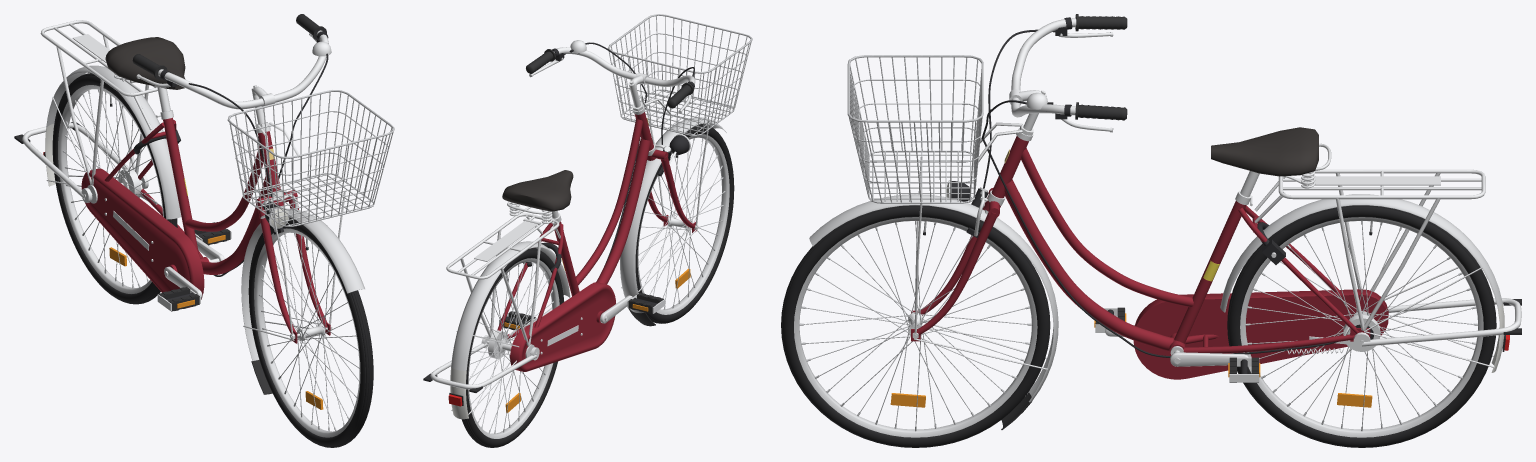
The model's file is mamachari.glb.
The picture shows the model from 3 angles, left to right: view 1: azimuth 30°, elevation 25°; view 2: azimuth 150°, elevation 25°; view 3: azimuth 270°, elevation 25°; orthographic projection. The views are drawn at different scales.
Visible parts, largest first — view 1: FrontWheel, Frame, Basket, RearWheel, ChainCase, Steer, FenderRear, FenderFront, Saddle, Stand, PedalR, Crank (+1 smaller); view 2: Frame, FrontWheel, Basket, RearWheel, ChainCase, Steer, FenderRear, FenderFront, Saddle, Stand, PedalR, PedalL (+1 smaller); view 3: Frame, FrontWheel, RearWheel, ChainCase, Basket, Steer, FenderRear, FenderFront, Saddle, Stand, Crank, PedalL.
Part boxes in pixels (x1,y1,x2,y2): FrontWheel: (248,217,373,447); Frame: (40,20,291,276); Basket: (227,90,394,226); RearWheel: (52,73,177,304); ChainCase: (81,168,204,307); Steer: (132,14,345,343); FenderRear: (43,65,181,219); FenderFront: (241,209,364,394); Saddle: (105,37,185,89); Stand: (14,122,148,202); PedalR: (157,287,200,311); Crank: (164,237,224,298); Frame: (446,94,655,358); FrontWheel: (635,124,734,323); Basket: (607,14,752,136); RearWheel: (461,248,564,447); ChainCase: (510,282,615,371); Steer: (526,40,709,232); FenderRear: (448,241,570,419); FenderFront: (619,117,726,326); Saddle: (502,170,573,223); Stand: (423,335,539,392); PedalR: (627,293,664,313); PedalL: (499,311,536,330); Frame: (982,128,1485,357); FrontWheel: (781,205,1050,447); RearWheel: (1227,205,1496,447); ChainCase: (1133,289,1388,379); Basket: (847,55,983,203); Steer: (911,14,1127,341); FenderRear: (1220,194,1509,372); FenderFront: (809,194,1058,429); Saddle: (1211,127,1331,188); Stand: (1353,298,1521,349); Crank: (1105,325,1248,366); PedalL: (1228,357,1260,382).
Bounding box in the file's own units: 0.5719 × 1.06 × 1.83.
